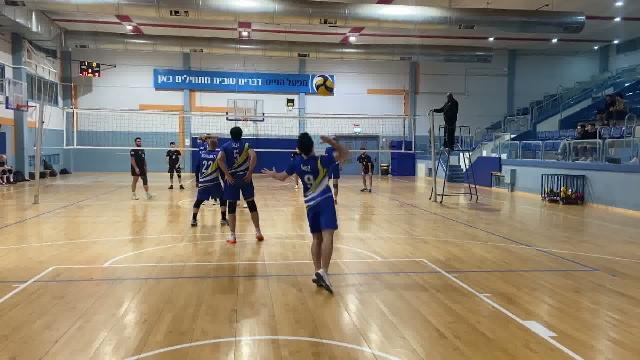ball: (312, 75, 335, 97)
